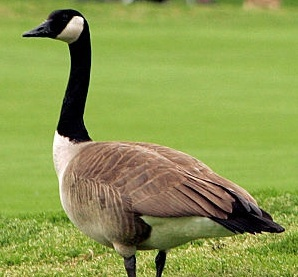goose: (11, 5, 291, 269)
